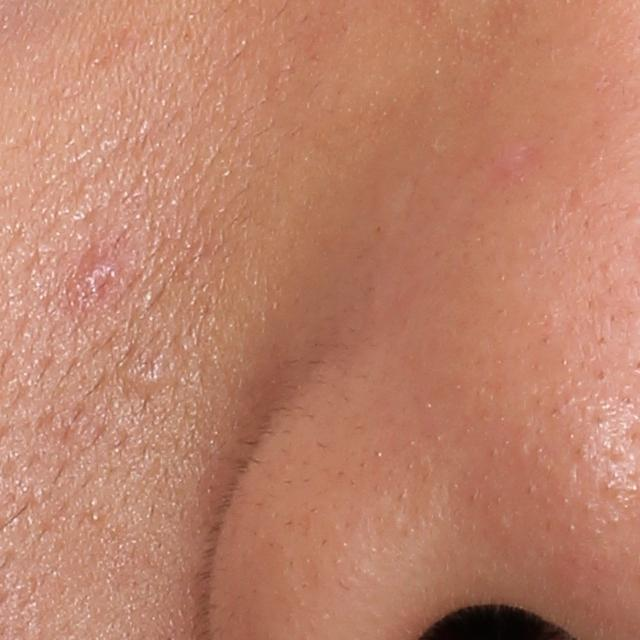comedo: (131, 362, 172, 399)
papule: (75, 250, 128, 298)
